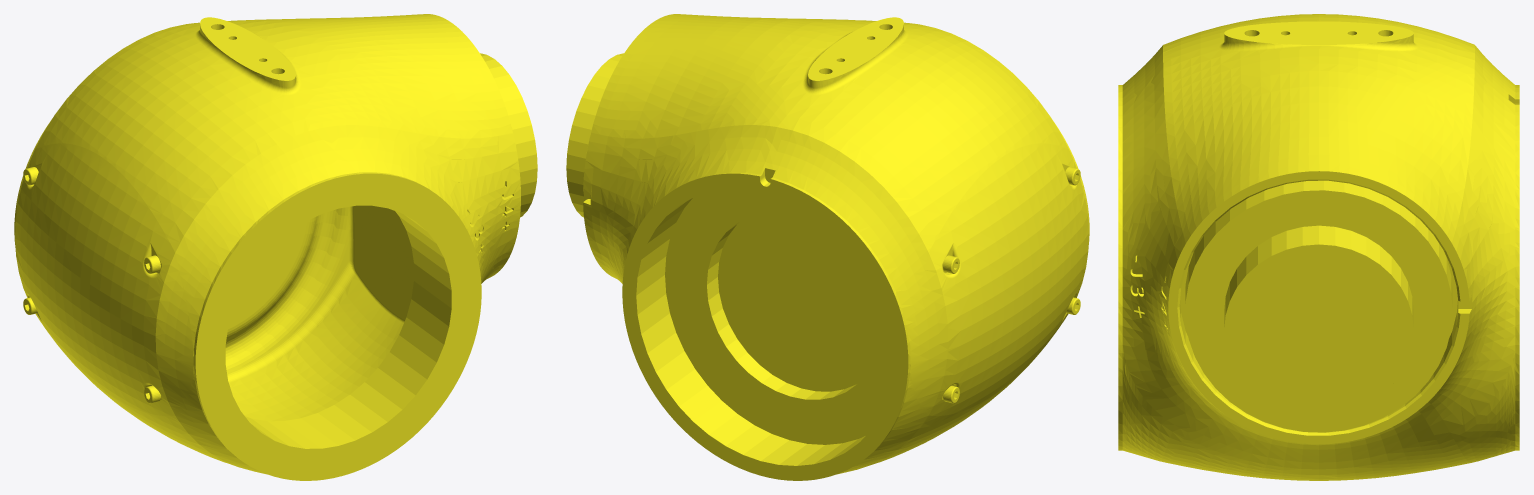
3 renders of one model, left to right at view 1: azimuth 30°, elevation 25°; view 2: azimuth 150°, elevation 25°; view 3: azimuth 270°, elevation 25°, orthographic. The views are drawn at different scales.
Visible parts, largest first — view 1: Link3; view 2: Link3; view 3: Link3.
Part boxes in pixels (bbox=[...]): Link3: bbox=[14, 14, 537, 480]; Link3: bbox=[566, 14, 1089, 480]; Link3: bbox=[1118, 14, 1519, 480].
Bounding box in the file's own units: 0.2429 × 0.18 × 0.209.
